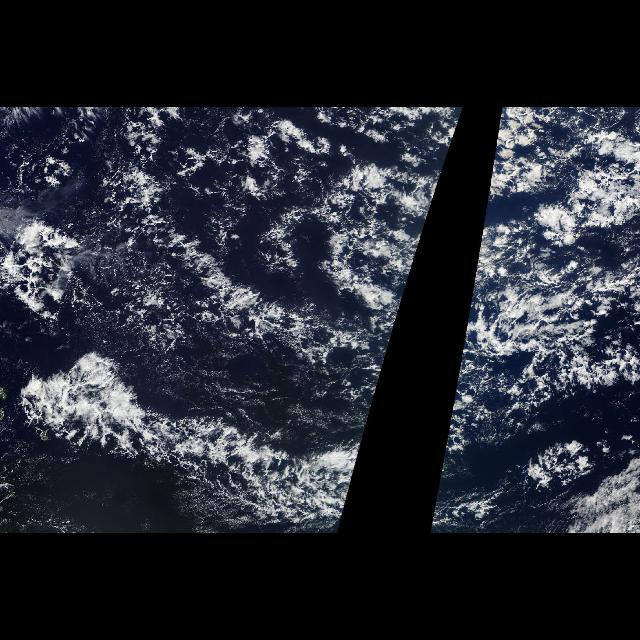Fish: (21, 355, 372, 521)
Gravel: (12, 114, 462, 534), (453, 115, 635, 403)
